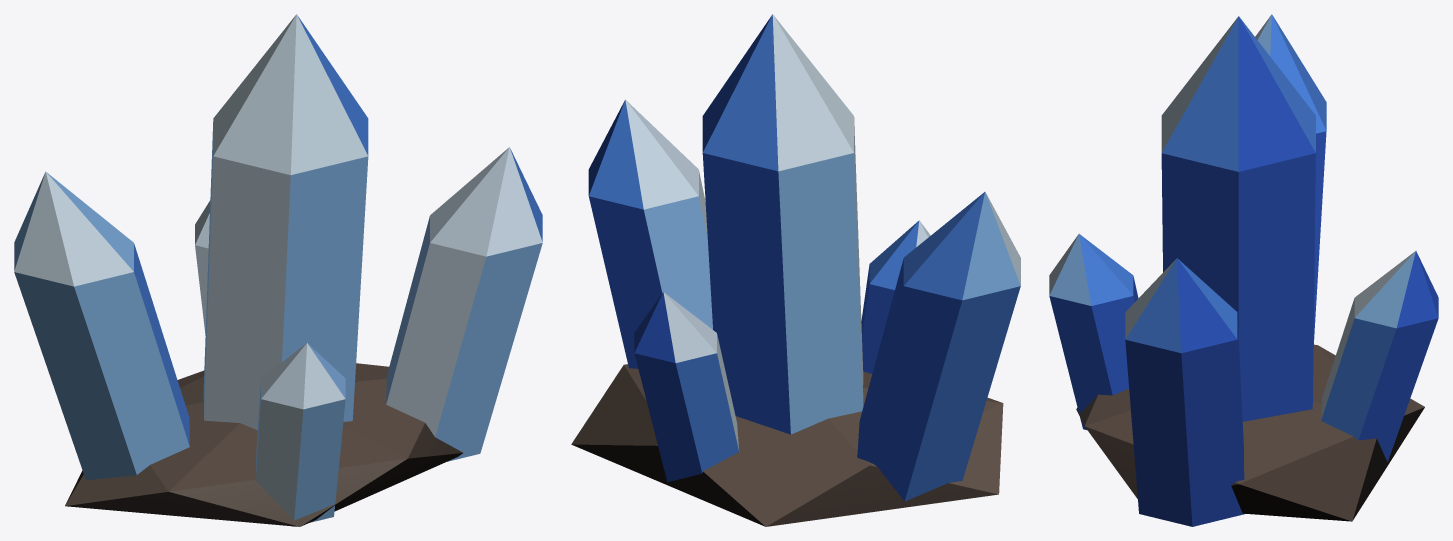
Rendered from crystal_blue.glb.
3 renders of one model, left to right at view 1: azimuth 30°, elevation 25°; view 2: azimuth 150°, elevation 25°; view 3: azimuth 270°, elevation 25°, orthographic. The views are drawn at different scales.
Parts seen in each view (by area): view 1: crystal_blue; view 2: crystal_blue; view 3: crystal_blue.
Part boxes in pixels (left/top/right/bottom): crystal_blue: left=14, top=14, right=542, bottom=526; crystal_blue: left=571, top=14, right=1020, bottom=526; crystal_blue: left=1049, top=14, right=1438, bottom=526.
Bounding box in the file's own units: 0.7233 × 0.62 × 0.5051.
